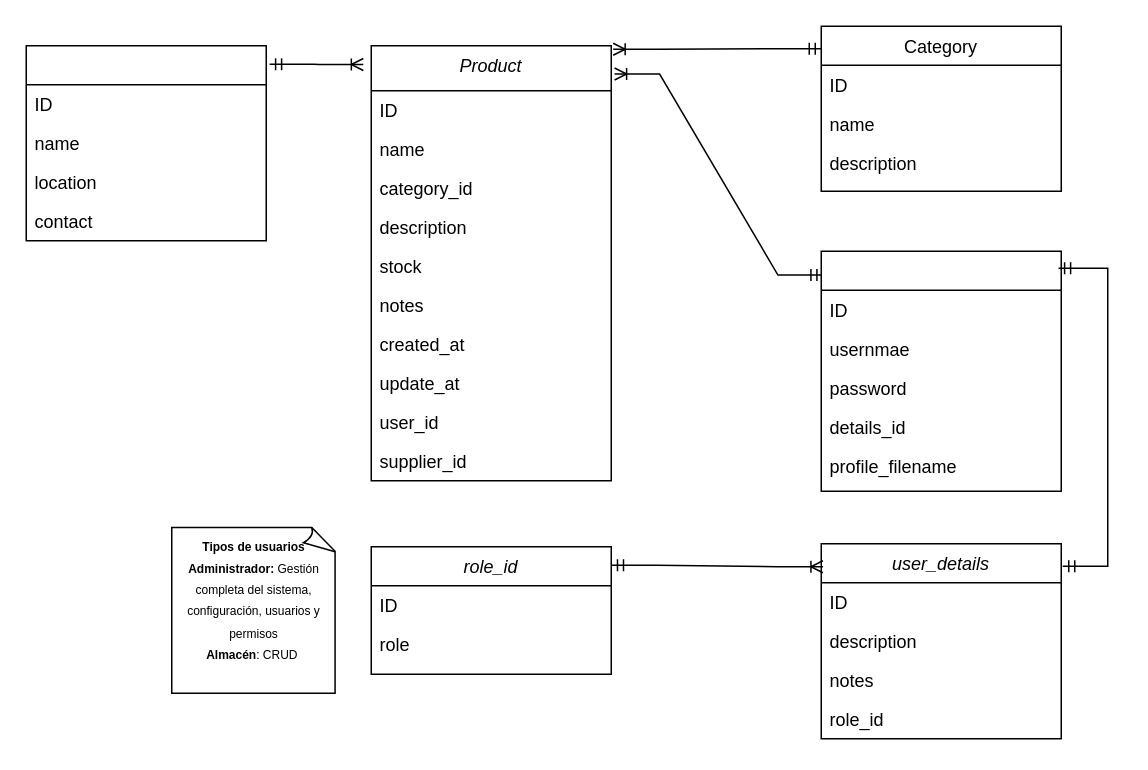
This 1148x770 diagram has some shape labels left out. The box of each missing label's shape, as (x1, y1, x2, y2) in pixels:
Supplier: (25, 44, 266, 241)
user_account: (820, 250, 1061, 491)
